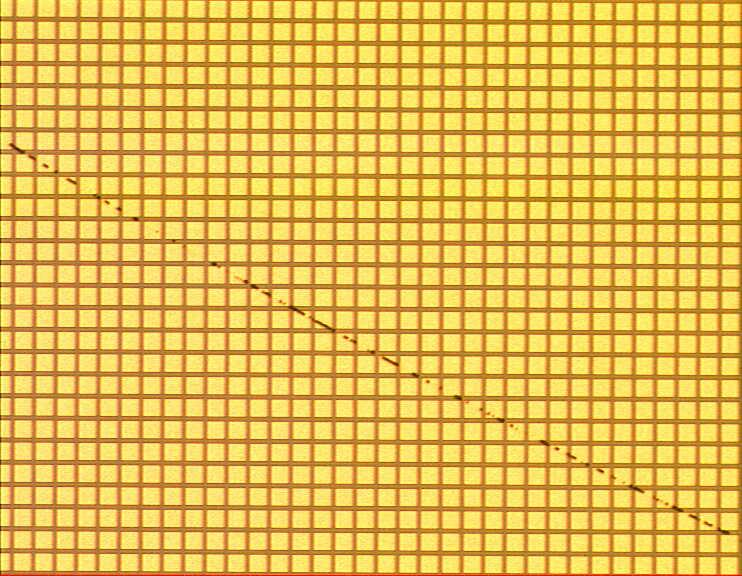SCRATCH: (1, 136, 742, 549)
